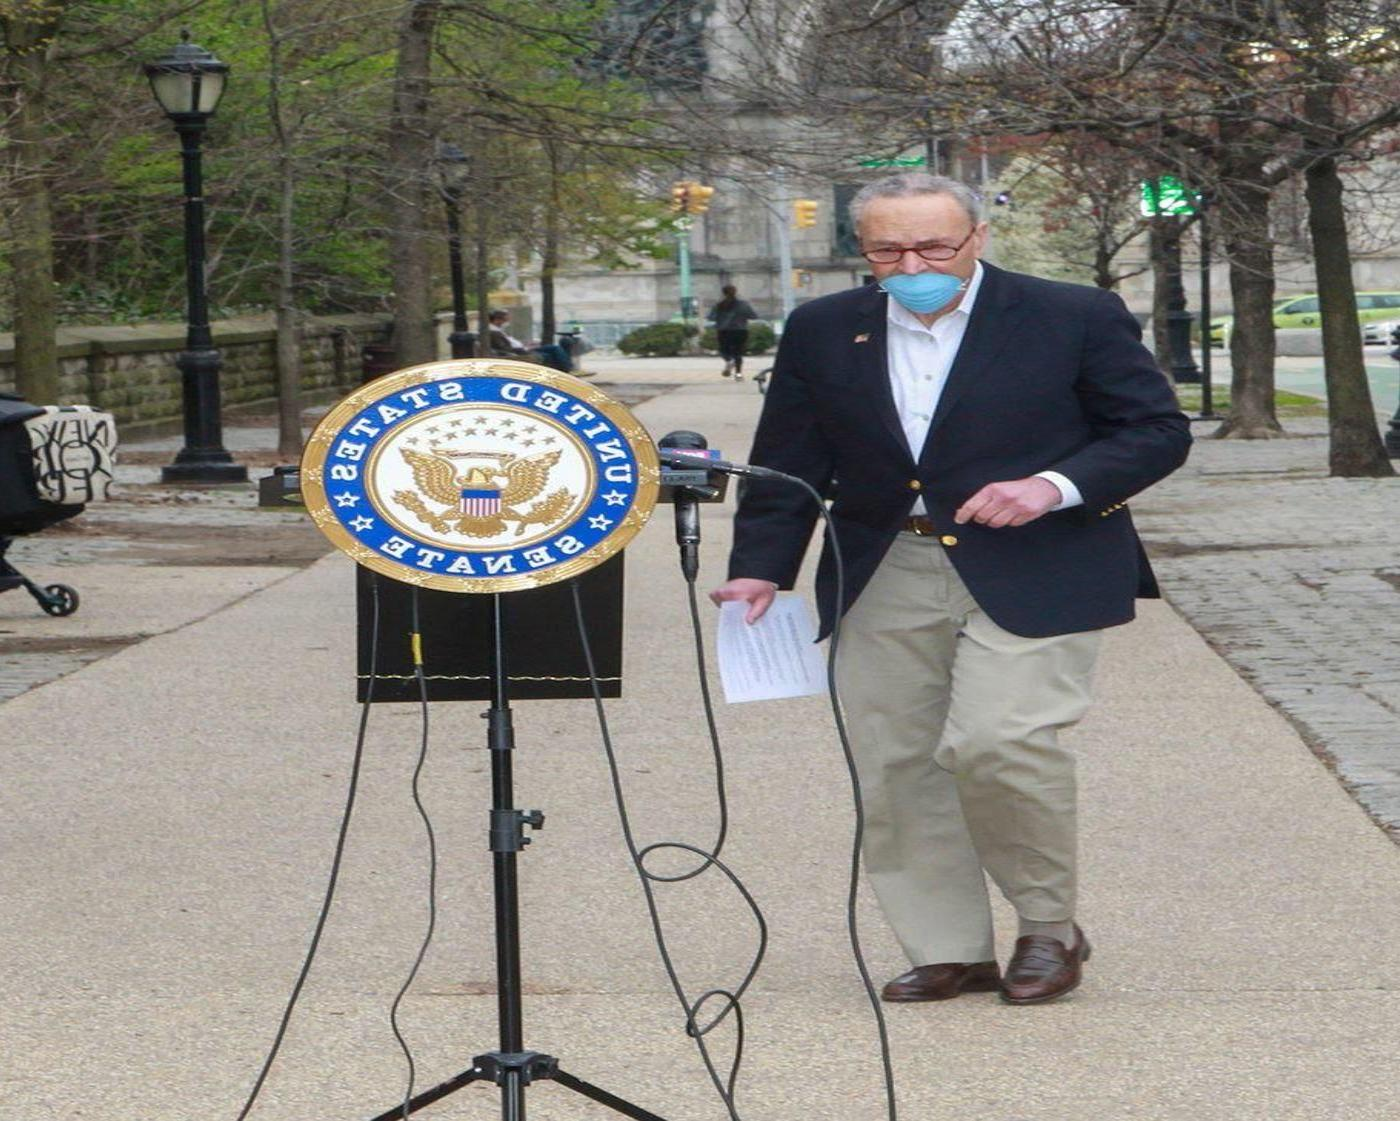mask_weared_incorrect: (846, 172, 993, 319)
